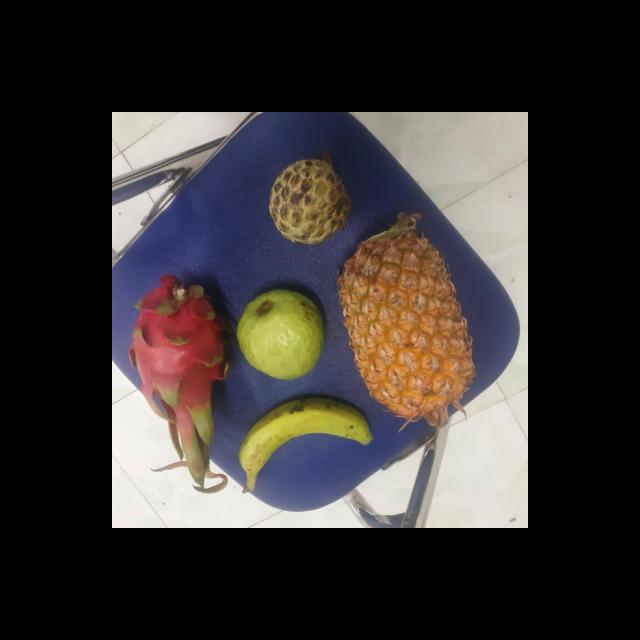Sakya fruit: (268, 158, 356, 248)
banana: (243, 396, 375, 486)
guava: (235, 290, 330, 378)
pineapple: (342, 220, 478, 425)
pitaya: (128, 280, 237, 430)
